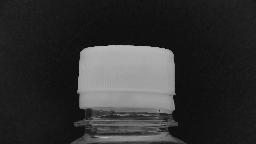Loose Cap: (69, 87, 183, 129)
